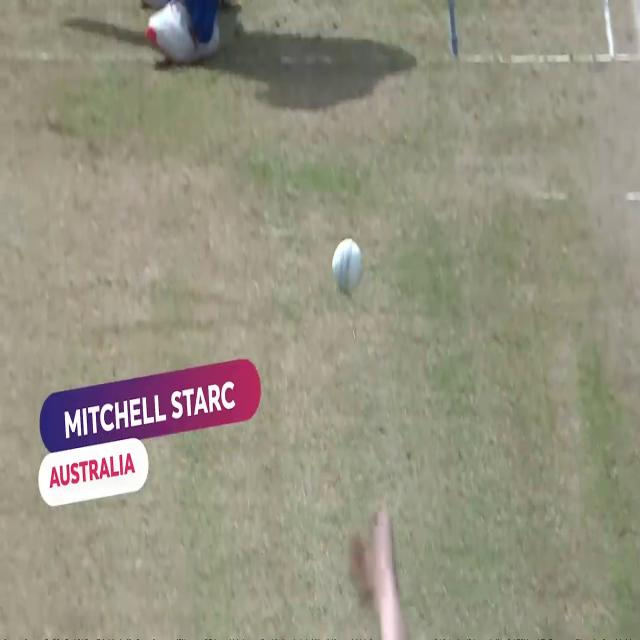ball: (325, 226, 373, 304)
